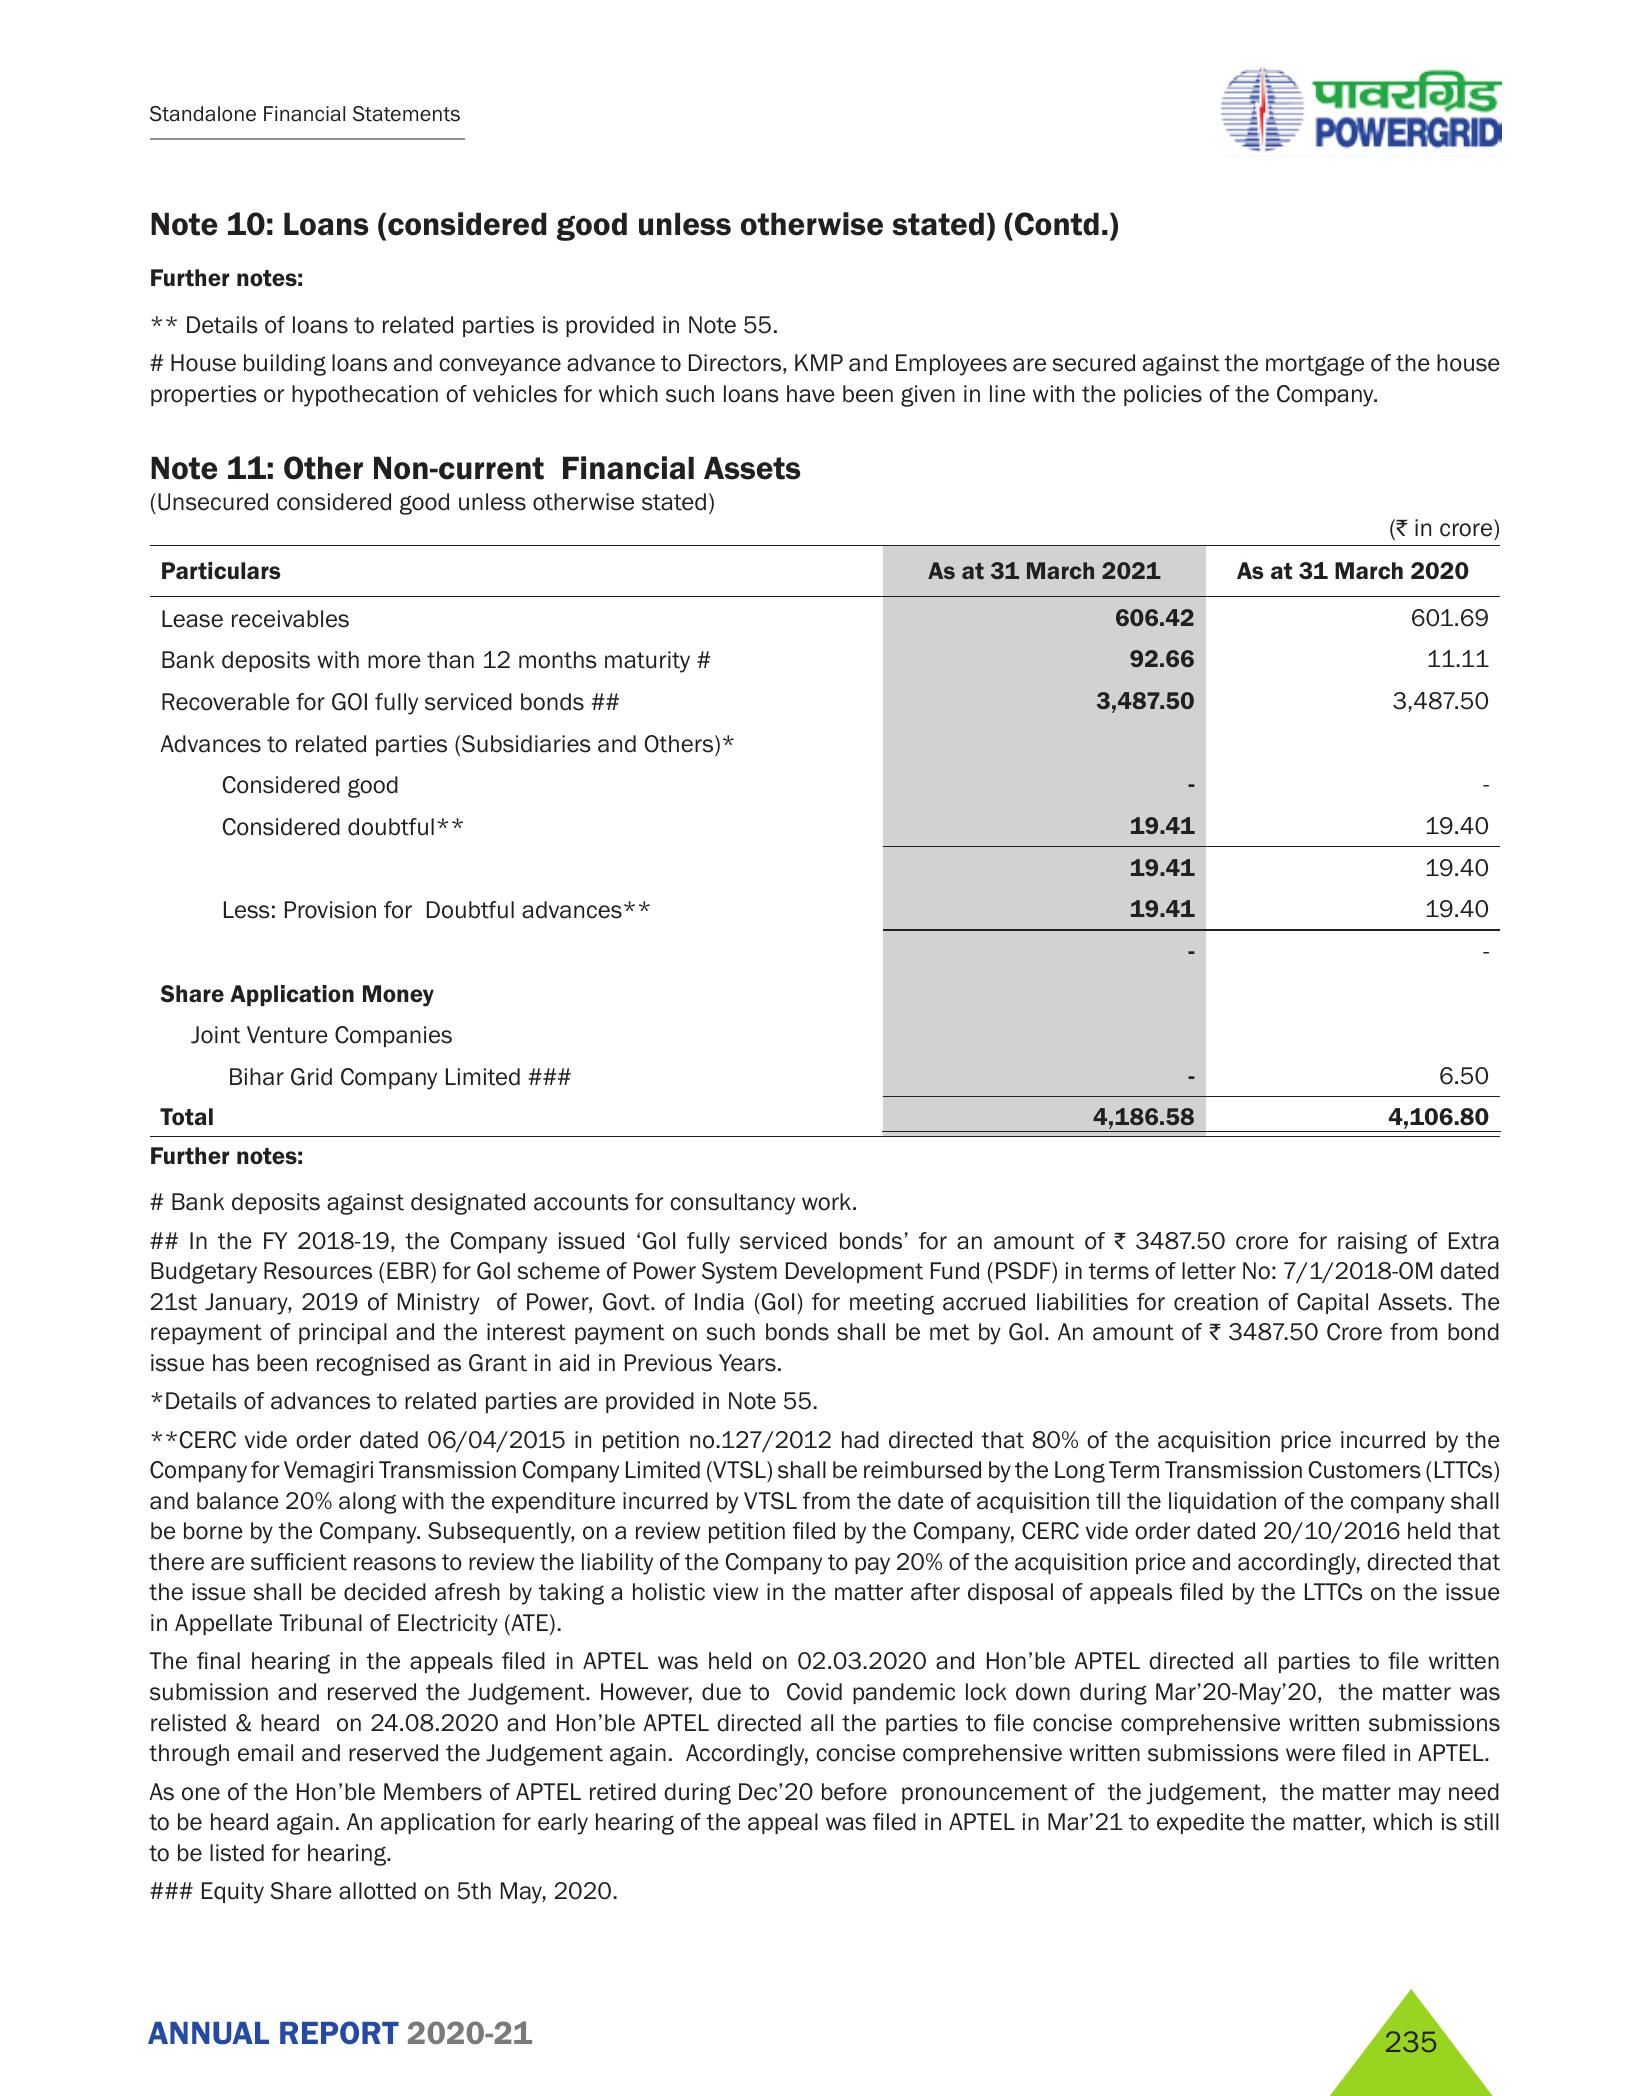Footer: (0, 1953, 1650, 2096)
Header: (0, 0, 1650, 172)
Table: (94, 543, 1507, 1128)
